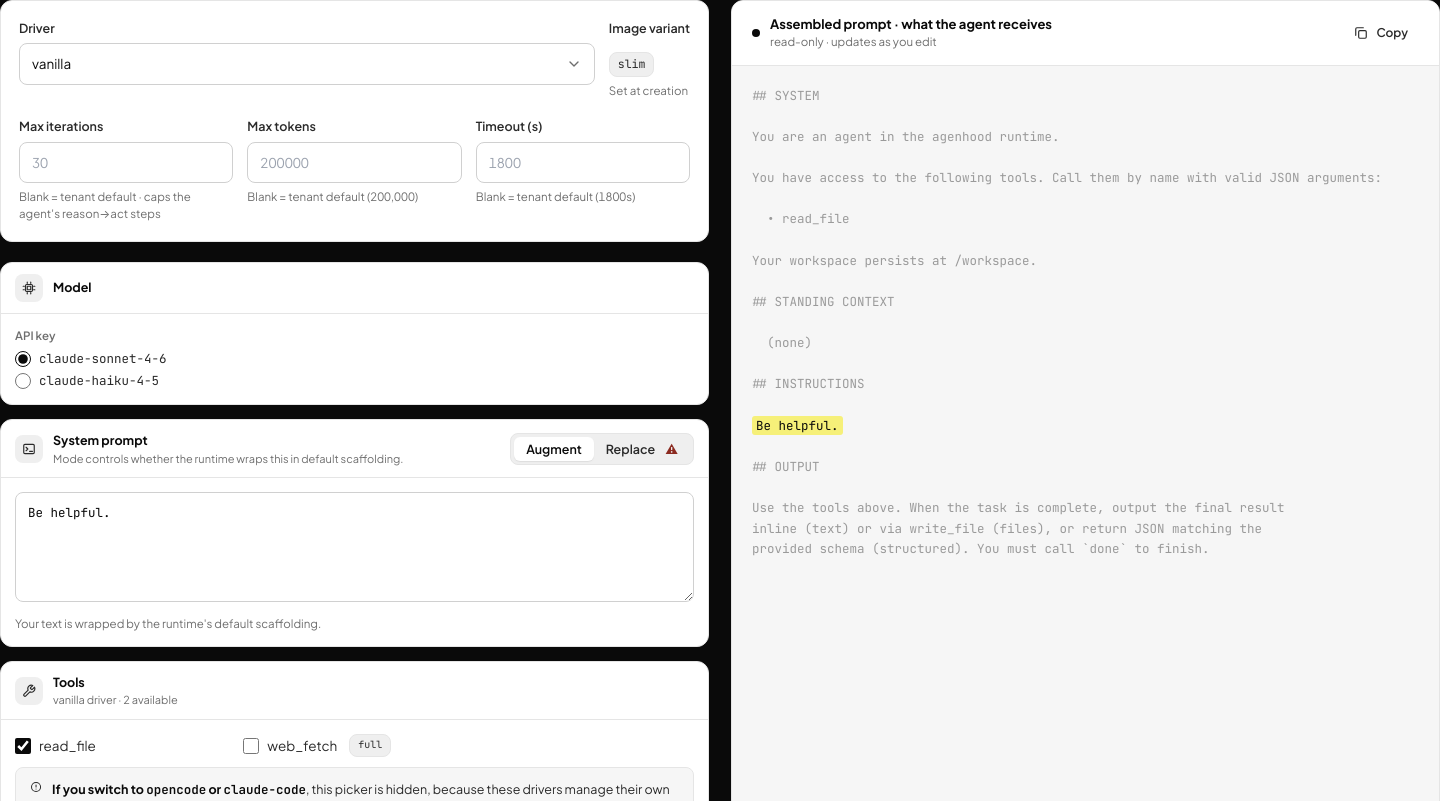
Test case: Configuration editor (driver-aware) › updates the assembled-prompt preview as the system prompt is edited
Clear the text box named "System prompt": (354, 548) [15,492,694,602]
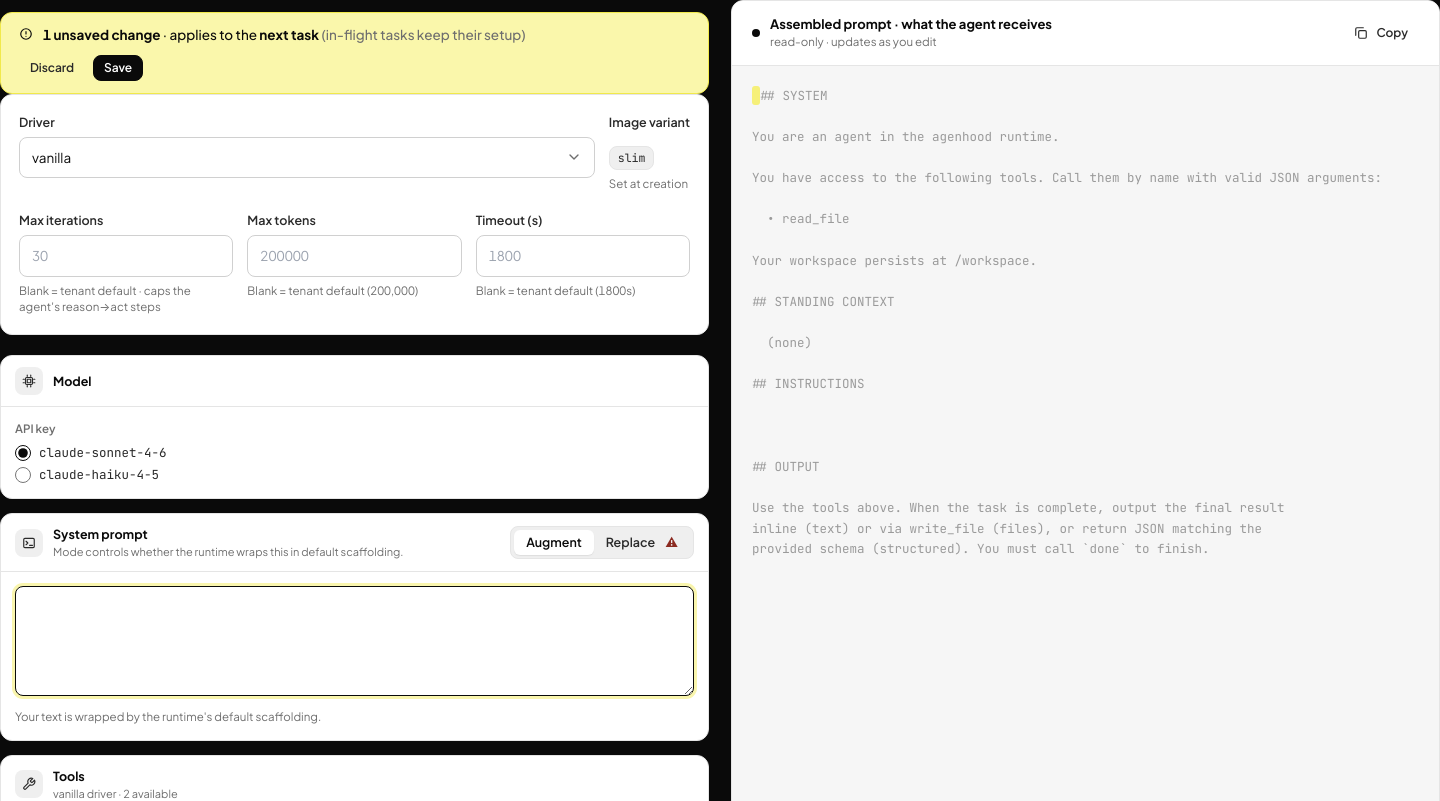
In the text box named "System prompt": (354, 641) [15,586,694,696], type "Cite every source."
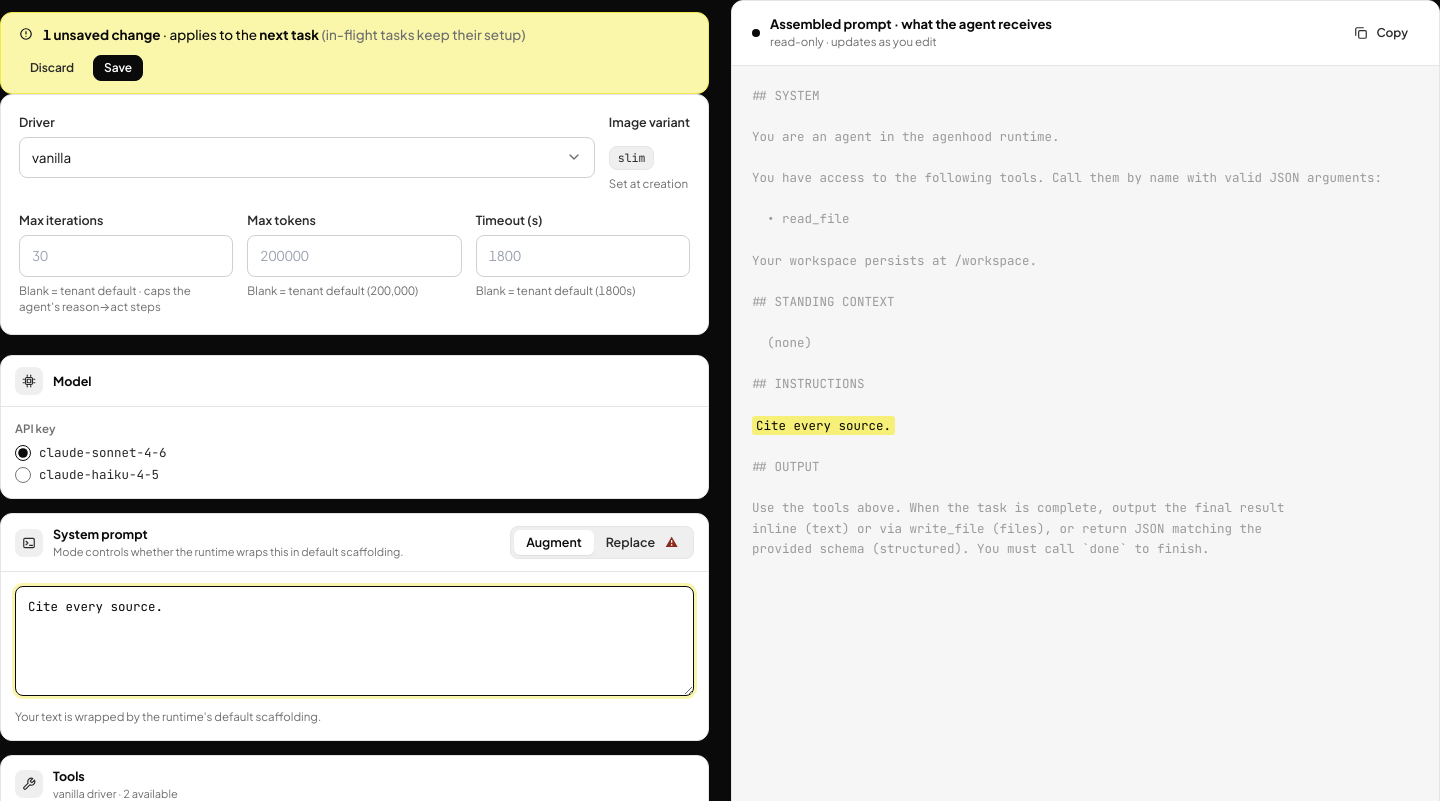
Expected: the element with test id "assembled-preview" shows "## SYSTEM", [752,86,1382,392]
Expected: the element with test id "assembled-preview" shows "Cite every source.", [756,416,891,434]
